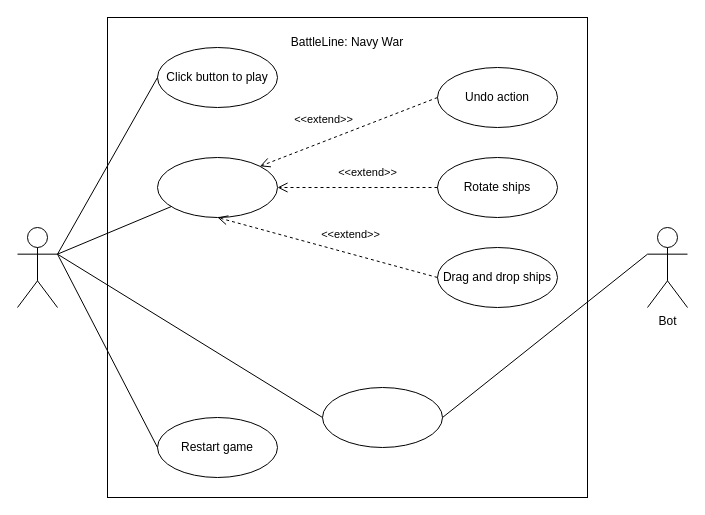
This 705x515 diagram has some shape labels left out. Here are the shapes that lost their labels. From the top down, the centre of each, then its label:
point (217, 187): Place marine ships
point (37, 267): Player
point (382, 417): Fire at cell
